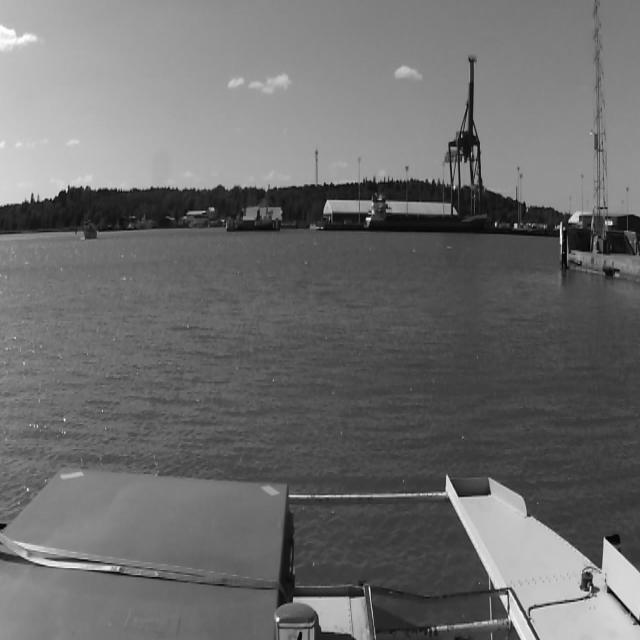buoy: (75, 228, 77, 235)
ship: (81, 215, 98, 242)
